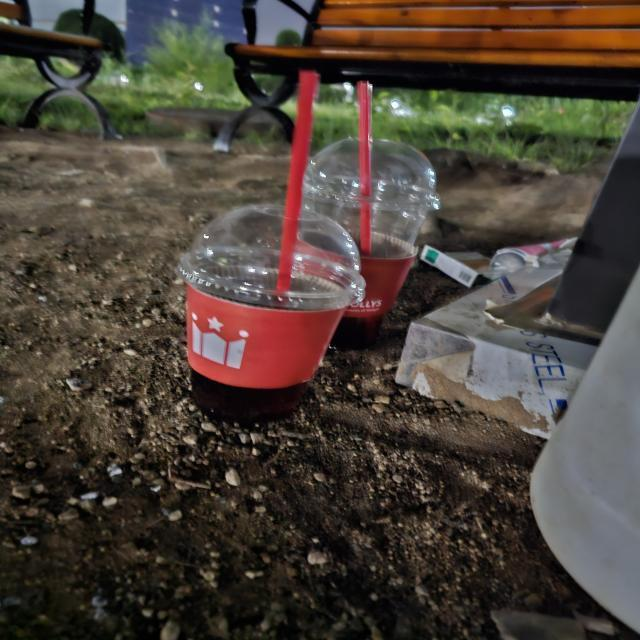cup: (176, 200, 367, 426), (304, 132, 439, 332)
